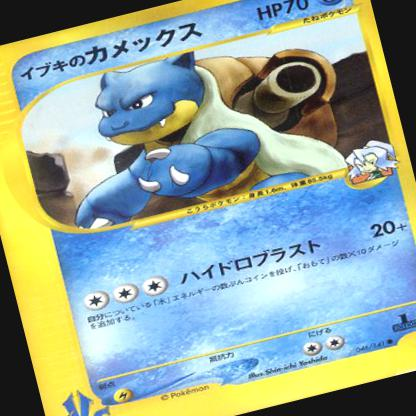Blastoise: (62, 23, 350, 232)
